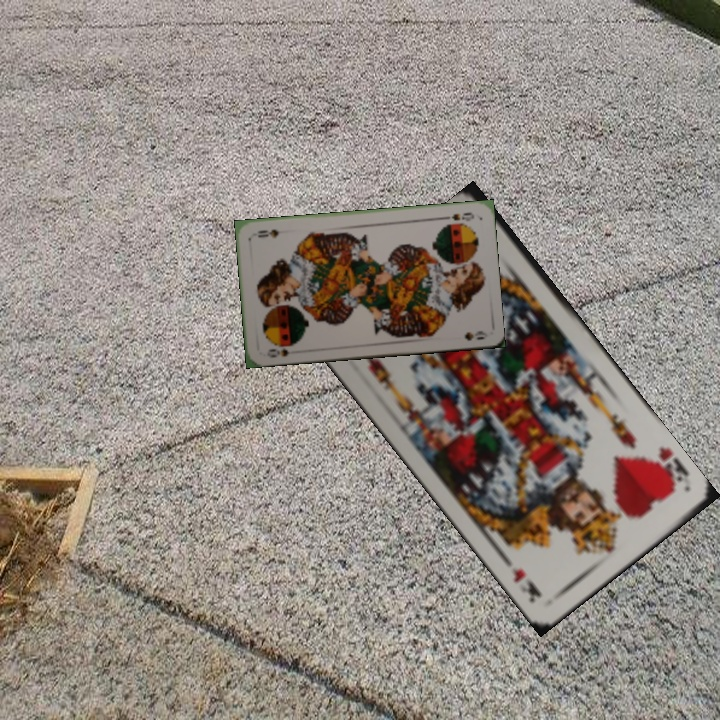HK: (645, 442, 692, 493)
SO: (263, 340, 300, 360), (438, 208, 477, 224)
